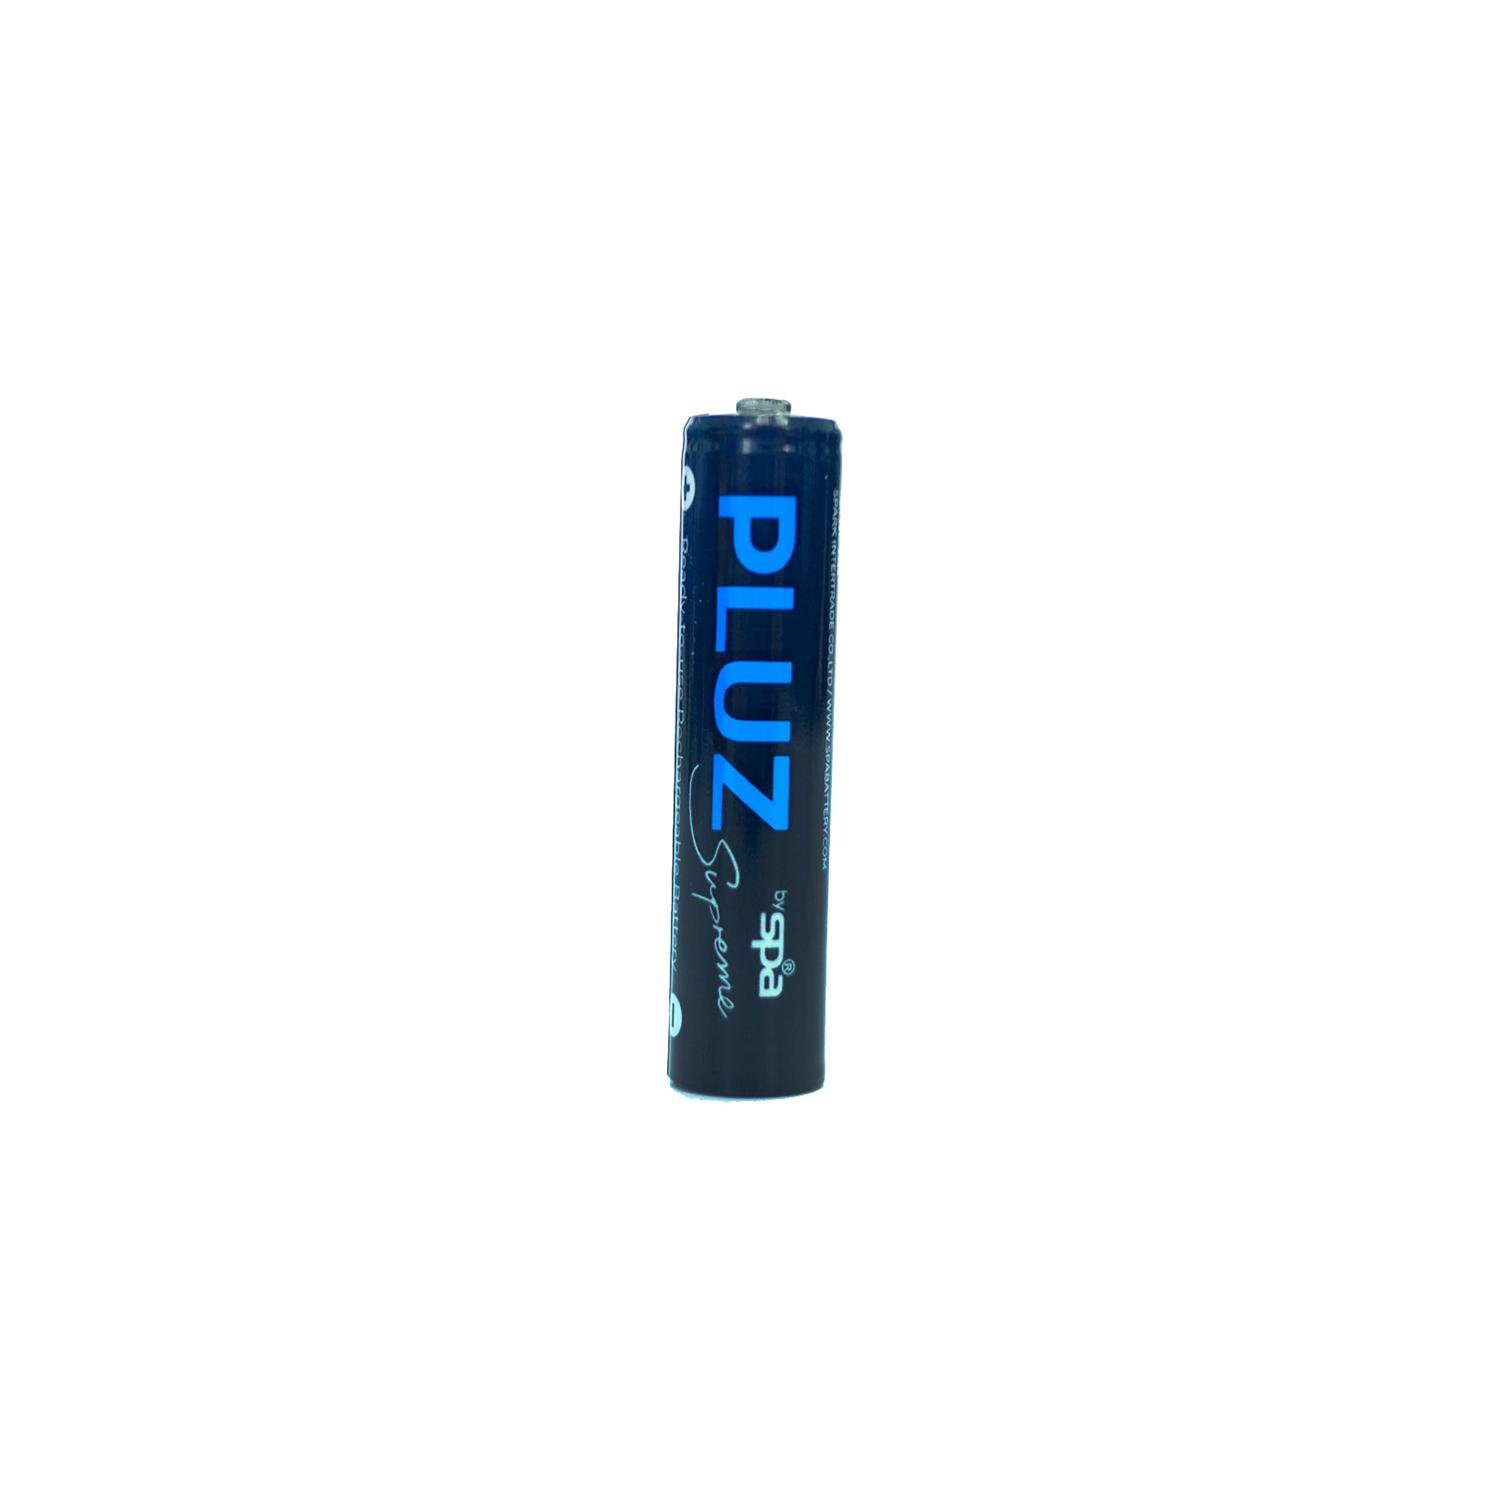Battery: (650, 389, 854, 1104)
